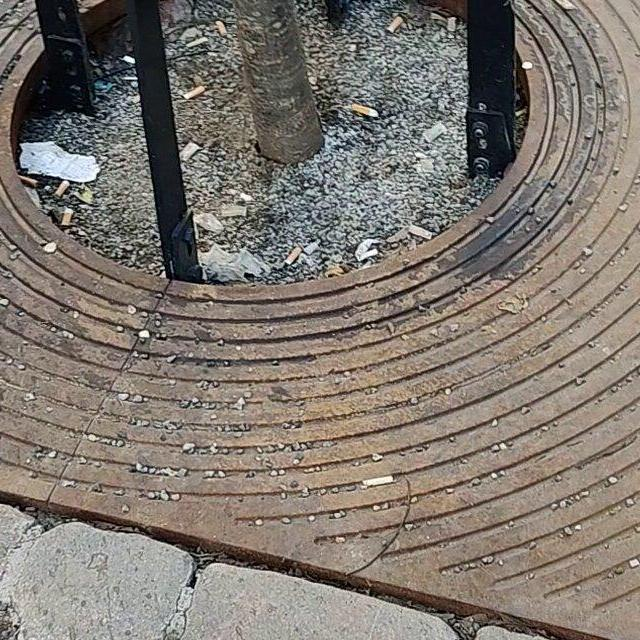Cigarette Butt: (408, 225, 435, 240), (180, 82, 203, 98), (351, 104, 378, 117), (387, 18, 404, 33), (216, 18, 229, 36), (62, 207, 72, 229), (284, 250, 298, 265), (186, 37, 207, 46), (57, 181, 68, 197)
